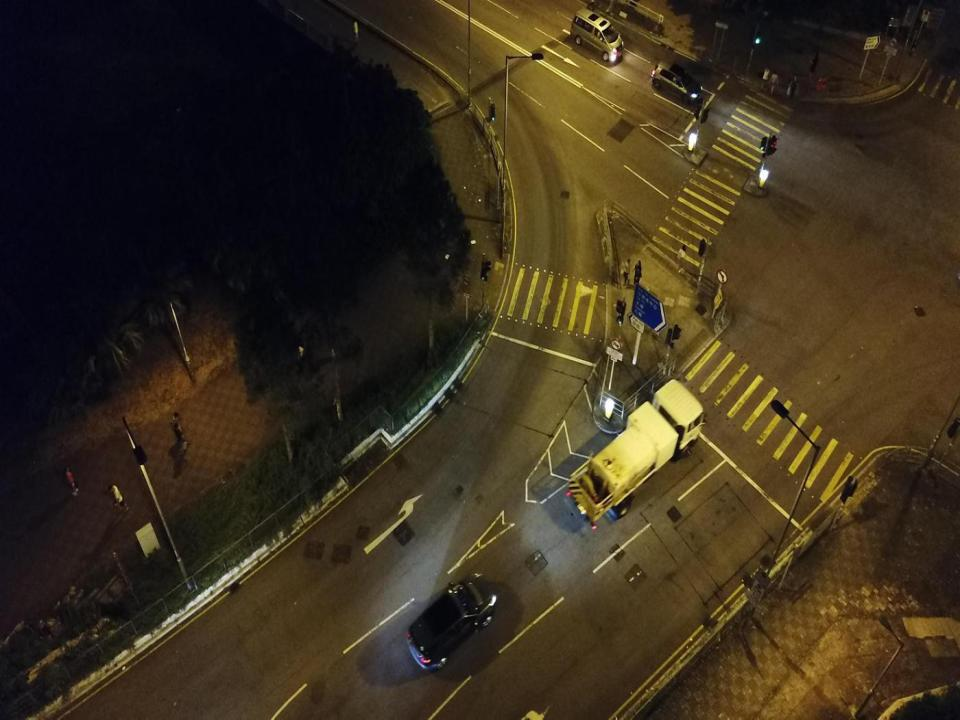car: (406, 573, 497, 671), (650, 60, 704, 104)
truck: (566, 378, 708, 530)
van: (570, 6, 625, 63)
